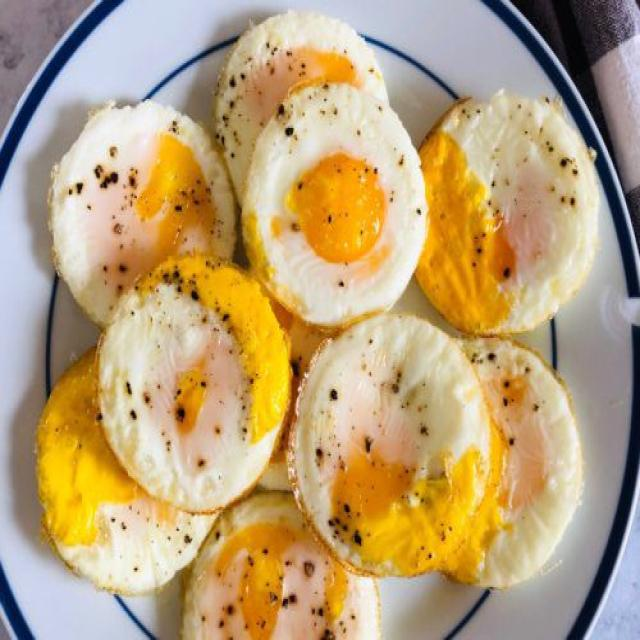Egg: (289, 313, 502, 581), (98, 255, 289, 512), (416, 90, 600, 334), (242, 83, 426, 326), (36, 350, 216, 594), (48, 100, 234, 326), (215, 12, 388, 202), (458, 338, 582, 588), (183, 493, 380, 638)
